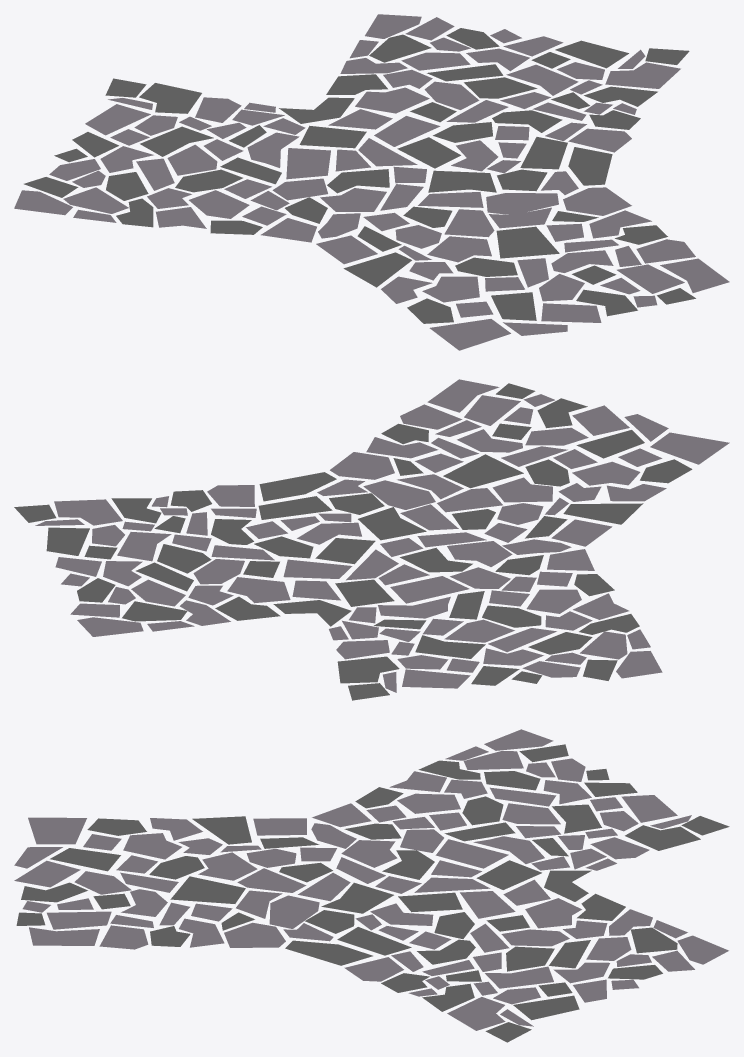
File: road_Y-cross.fbx
The picture shows the model from 3 angles, top to bottom: view 1: azimuth 30°, elevation 25°; view 2: azimuth 150°, elevation 25°; view 3: azimuth 270°, elevation 25°; orthographic projection. The views are drawn at different scales.
Visible parts, largest first — view 1: road_smooth_right.001; view 2: road_smooth_right.001; view 3: road_smooth_right.001.
Boxes of the visible parts, bbox=[...] form: road_smooth_right.001: bbox=[14, 14, 729, 350]; road_smooth_right.001: bbox=[14, 379, 729, 700]; road_smooth_right.001: bbox=[14, 729, 729, 1042].
Bounding box in the file's own units: 323 × 0.738 × 312.
